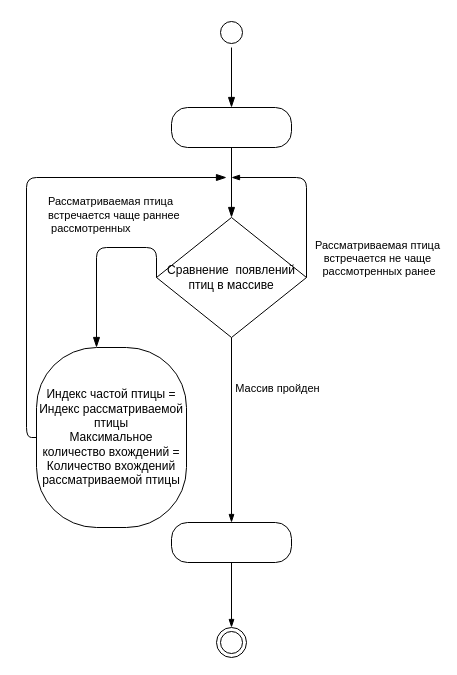
The diagram is 457 pixels wide and 675 high, and some of its shapes have lost their labels. The centre of each missing label's shape, as x and y in pixels:
"Внесение данных" belongs at pixel 231 127.
"Вывод результата" belongs at pixel 231 542.
